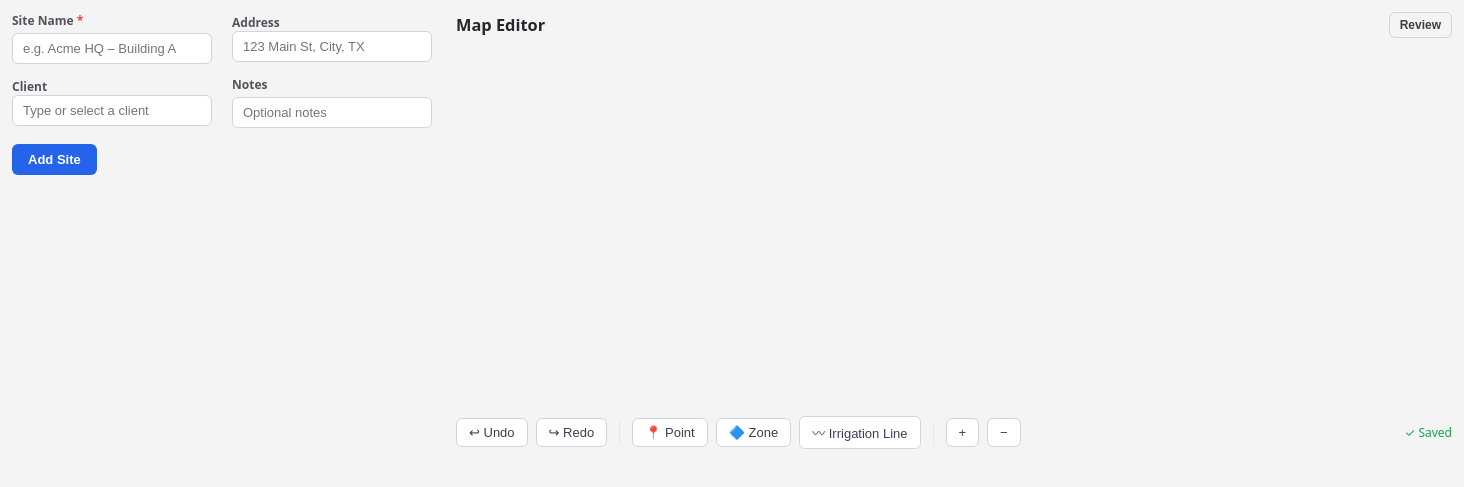
Test: AddSiteForm › new client detection › shows new-client-details when typed name does not match any existing client
Type "Brand New Client" into the field with placeholder "Type or select a client" at (112, 110), box [12, 95, 212, 126]
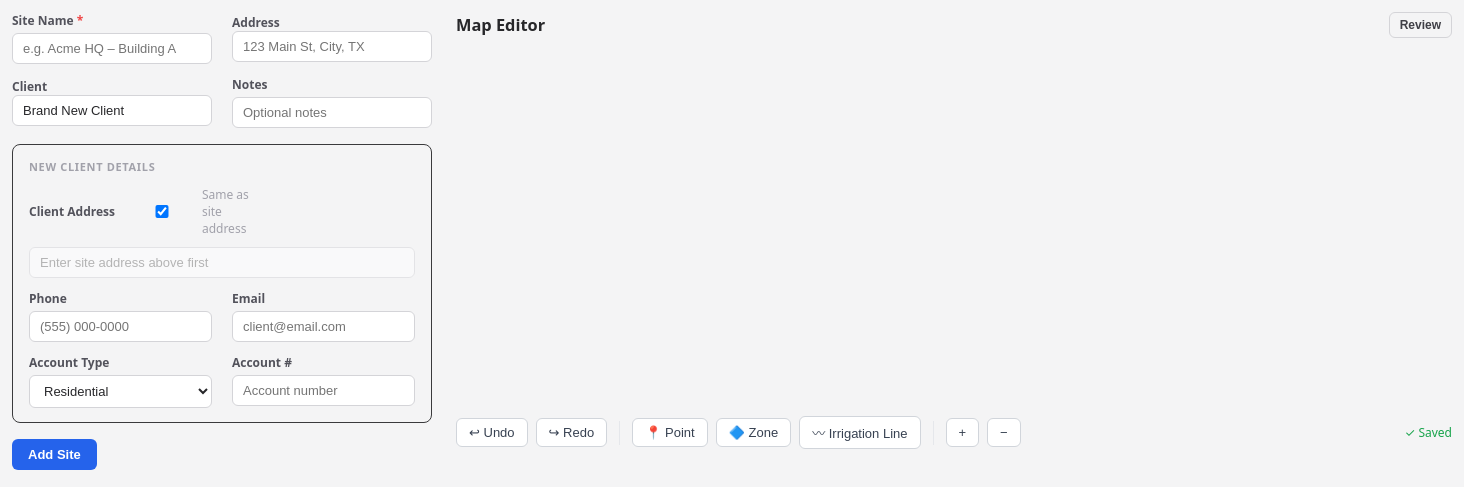
Expected: the element with test id "new-client-details" is shown, [12, 144, 432, 423]
